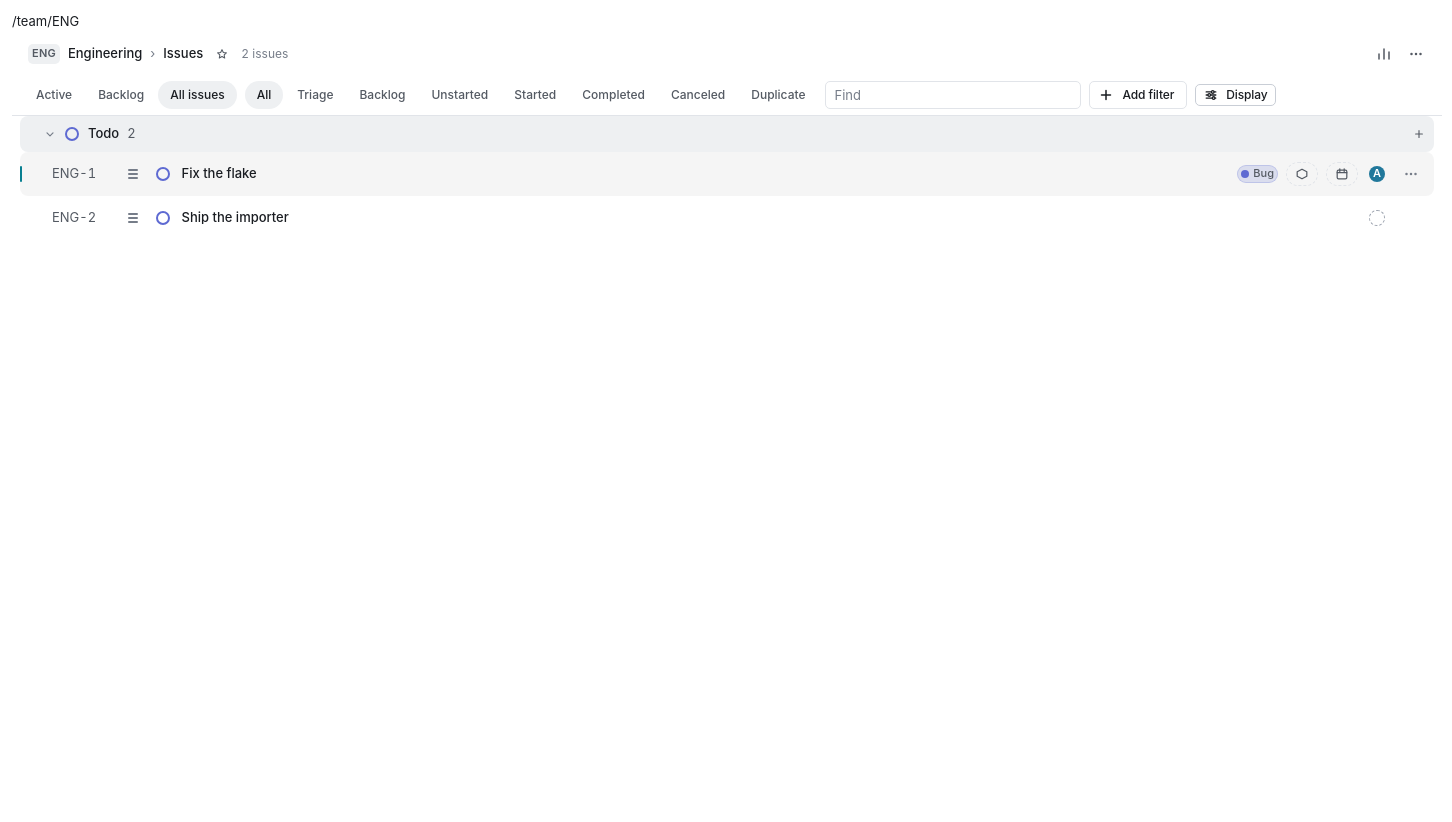
Test: the row context menu › hands off to the picker without raising the toolbar it used to fall back to
The width and height of the screenshot is (1452, 822).
Right-click the cell "ENG-2 Ship the importer": (74, 217) [52, 206, 1388, 228]
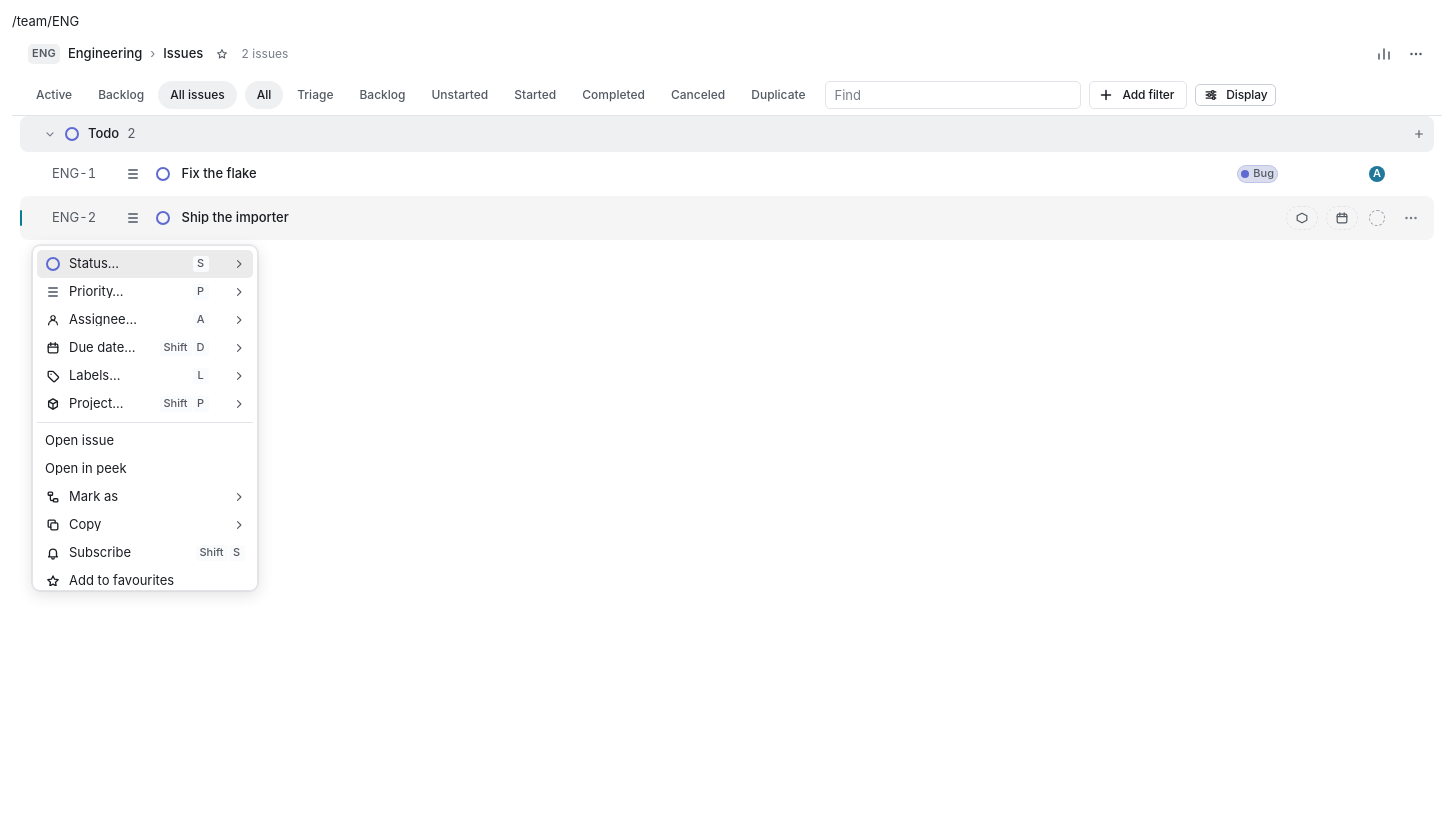
Click the menu item "Status… S": (145, 264) [37, 250, 252, 278]
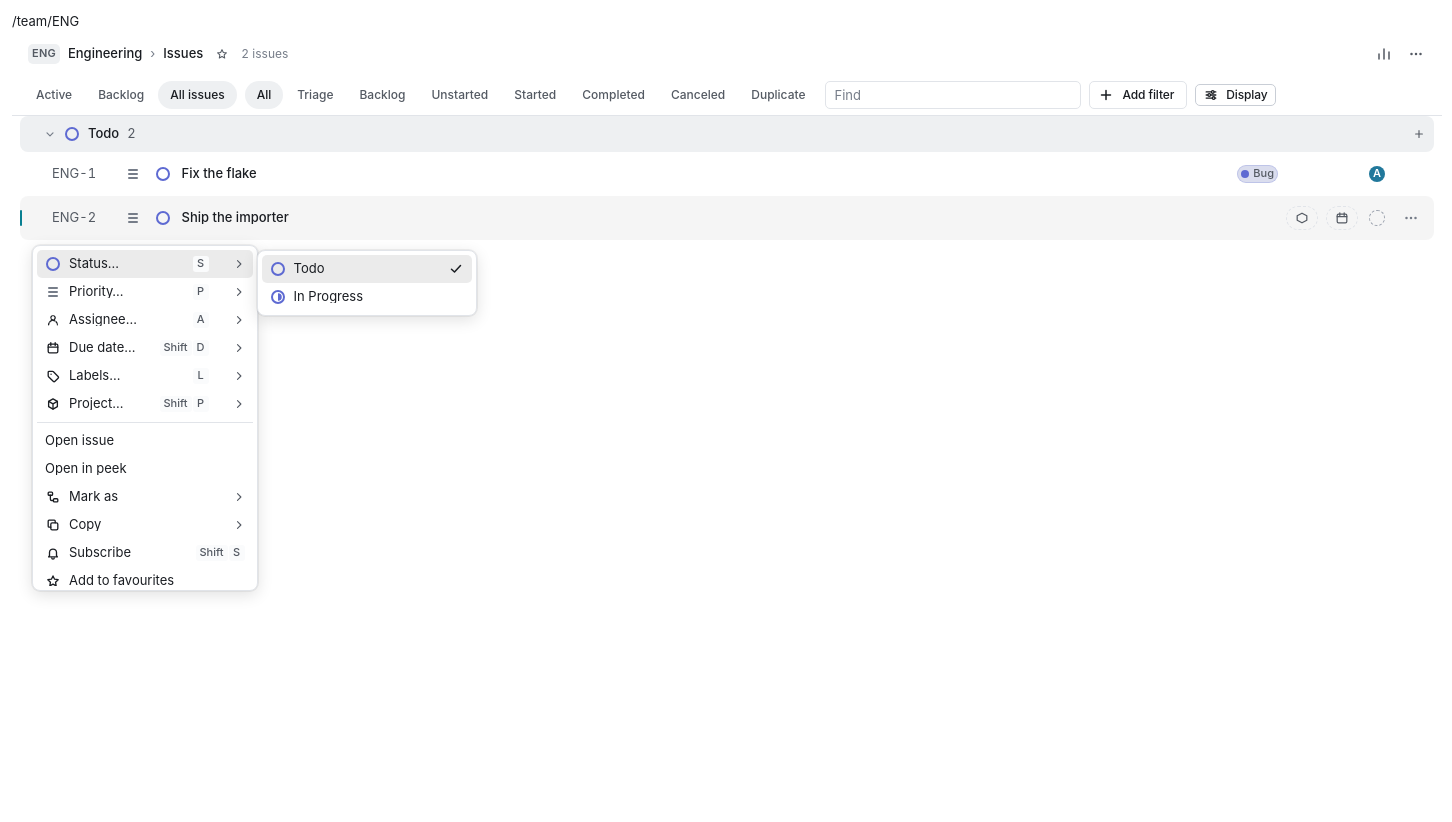
Check: the menu named "Status" is shown, box [262, 254, 472, 310]
